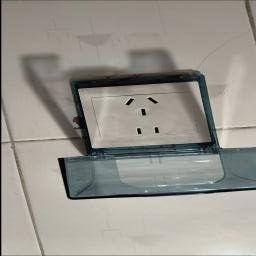outlet: (68, 72, 228, 154)
